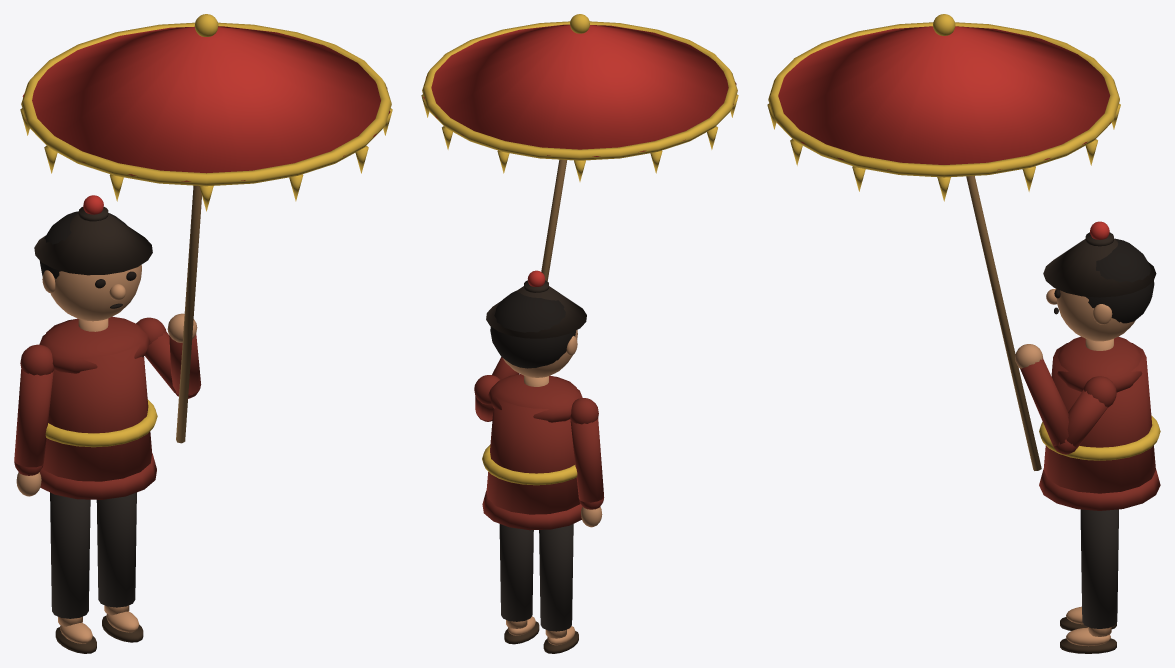
File: villager_linh_long.glb
3 renders of one model, left to right at view 1: azimuth 30°, elevation 25°; view 2: azimuth 150°, elevation 25°; view 3: azimuth 270°, elevation 25°, orthographic. The views are drawn at different scales.
Visible parts, largest first — view 1: ArmR, Body, Head, LegL, LegR, ArmL; view 2: ArmR, Body, Head, LegL, LegR, ArmL; view 3: ArmR, Body, Head, LegR.
Boxes of the visible parts, left/top/right/bottom form: ArmR: left=20, top=14, right=392, bottom=443; Body: left=39, top=316, right=157, bottom=499; Head: left=34, top=195, right=152, bottom=321; LegL: left=50, top=492, right=96, bottom=653; LegR: left=96, top=492, right=143, bottom=642; ArmL: left=14, top=344, right=54, bottom=496; ArmR: left=421, top=14, right=738, bottom=421; Body: left=482, top=374, right=582, bottom=530; Head: left=486, top=270, right=586, bottom=377; LegL: left=539, top=524, right=578, bottom=653; LegR: left=499, top=524, right=539, bottom=644; ArmL: left=570, top=398, right=604, bottom=527; ArmR: left=767, top=14, right=1120, bottom=470; Body: left=1039, top=336, right=1160, bottom=510; Head: left=1043, top=221, right=1156, bottom=341; LegR: left=1060, top=509, right=1118, bottom=653.
Bounding box in the file's own units: 1.24 × 2.48 × 1.39.
